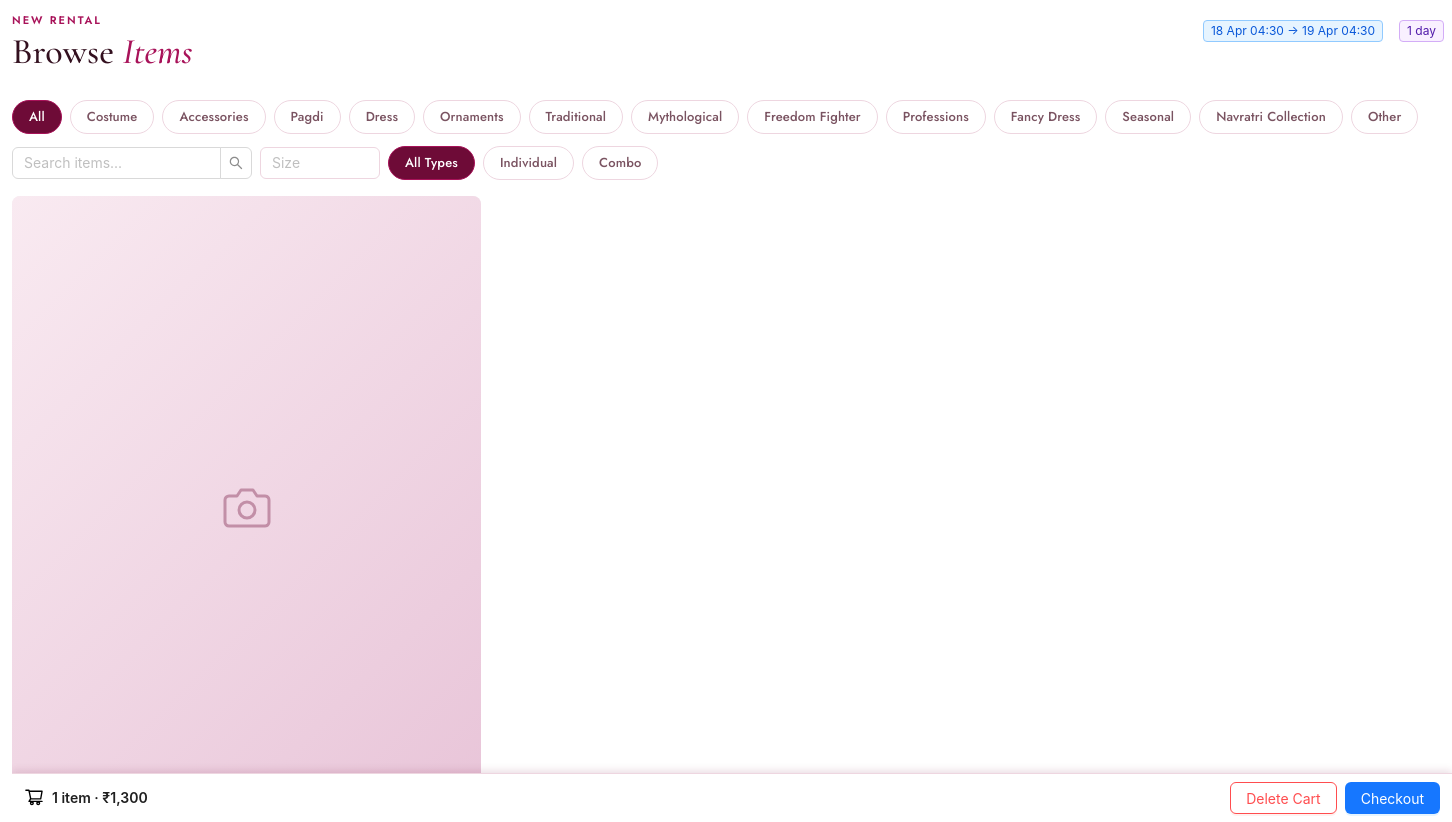
Test: CheckoutPage customer carried over from a receipt (#165) › AC14: a normal cart (no pinned customer) shows no banner on any screen and keeps the normal customer-search flow
The image size is (1452, 822).
Click the button "Checkout" at (1392, 798), box top-left (1345, 782), bottom-right (1440, 814)
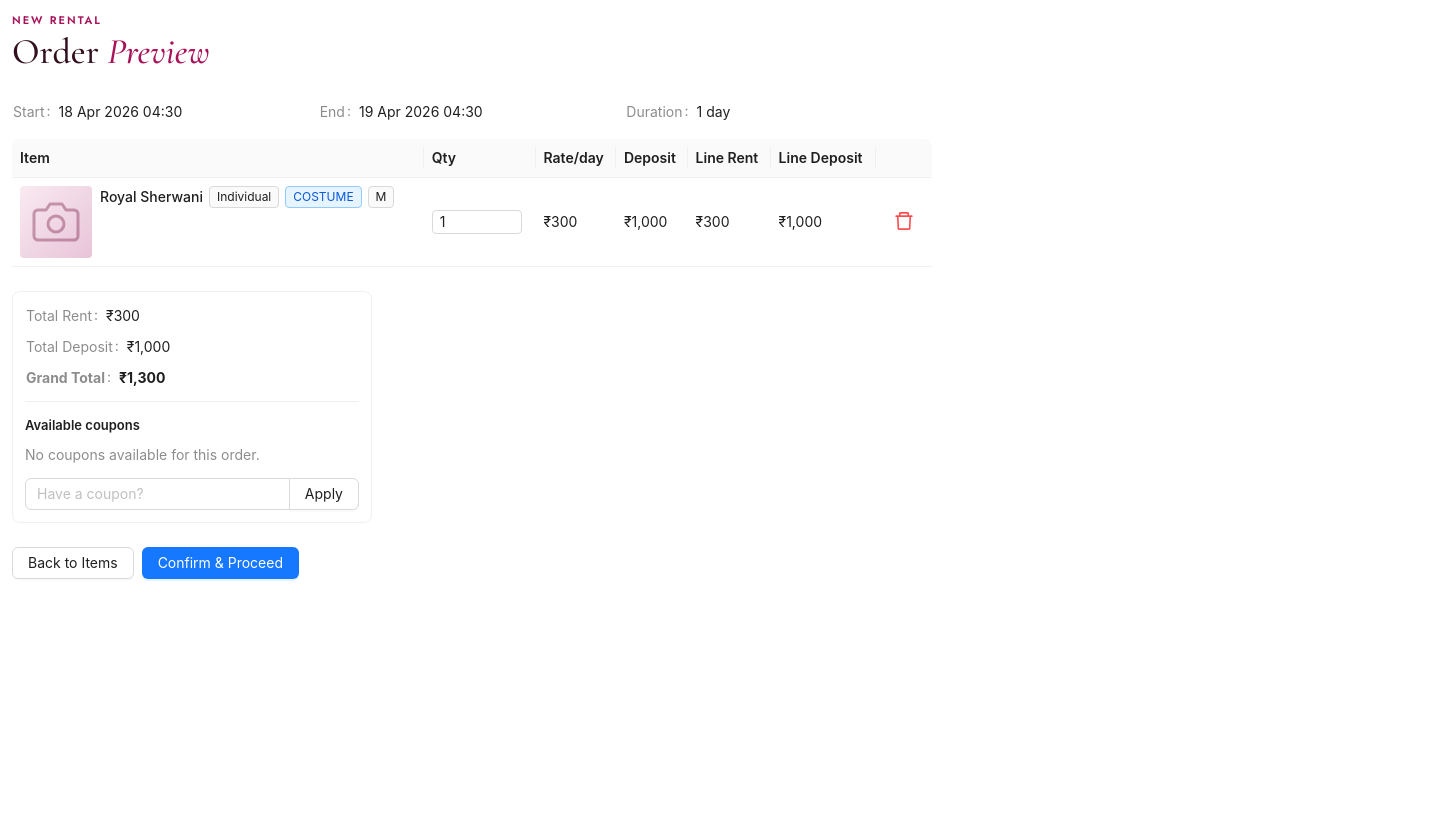
Click the button "Confirm & Proceed" at (220, 563), box top-left (142, 547), bottom-right (299, 579)
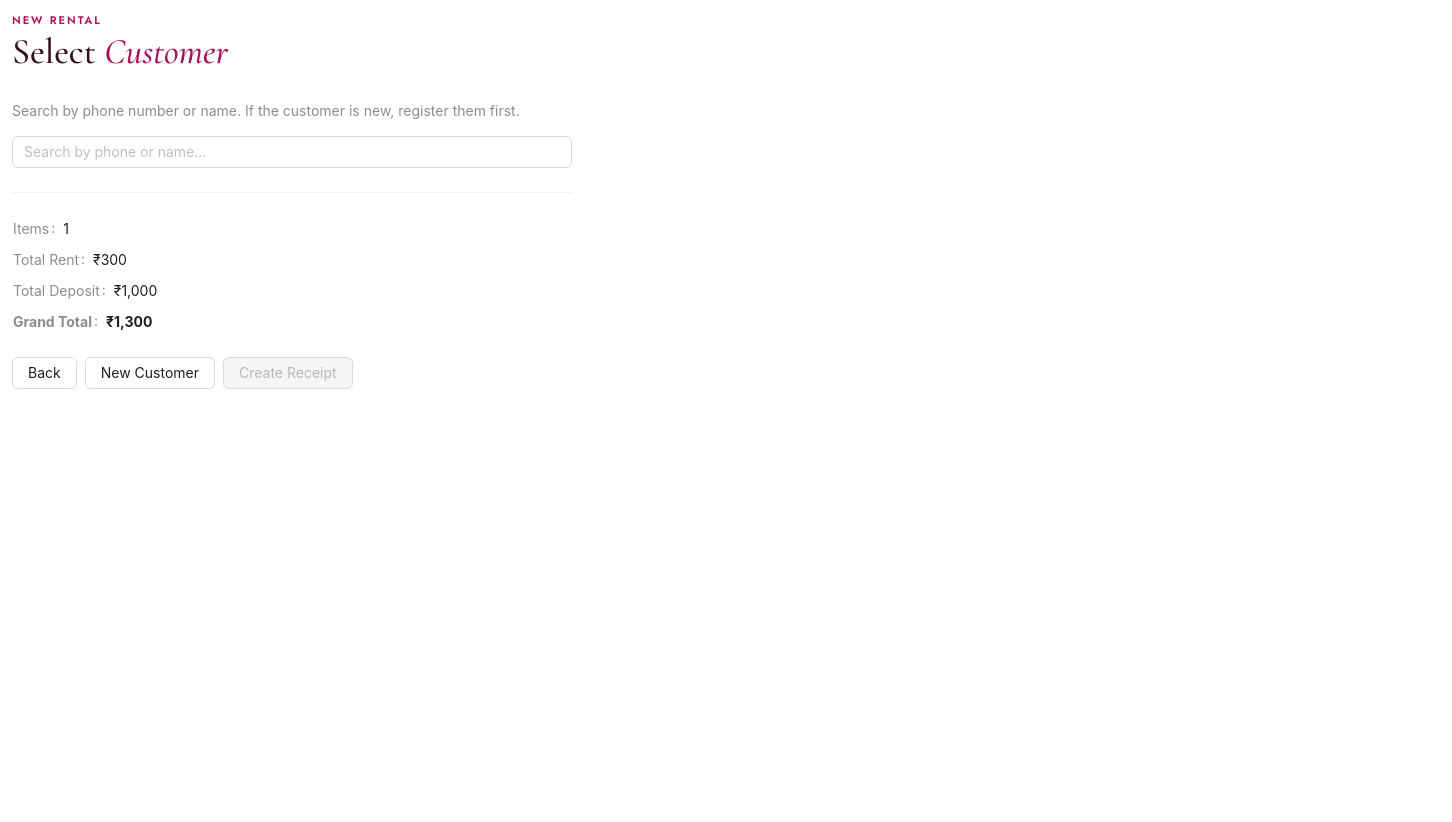
Expected: the text "Search by phone or name..." is shown, top-left (24, 143), bottom-right (206, 160)
Expected: the button "New Customer" is shown, top-left (85, 357), bottom-right (215, 389)
